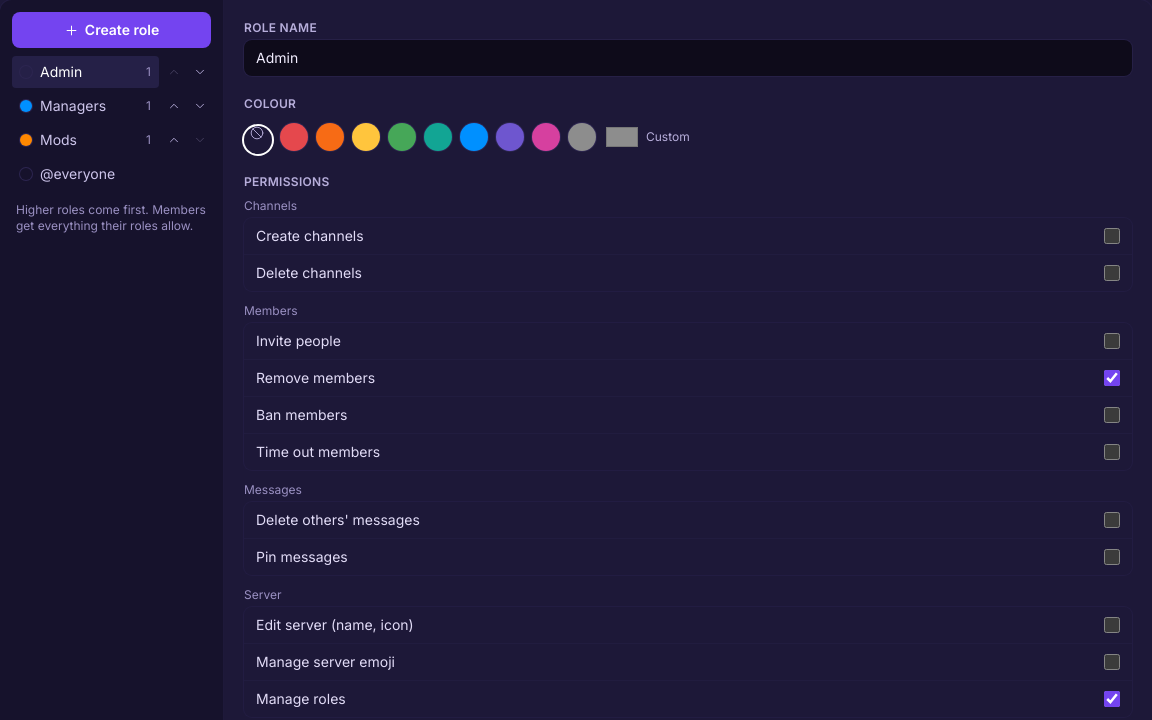
Test: @everyone: permissions only; it can't be renamed or deleted
Click the button "@everyone" at (112, 174), box [12, 158, 211, 190]
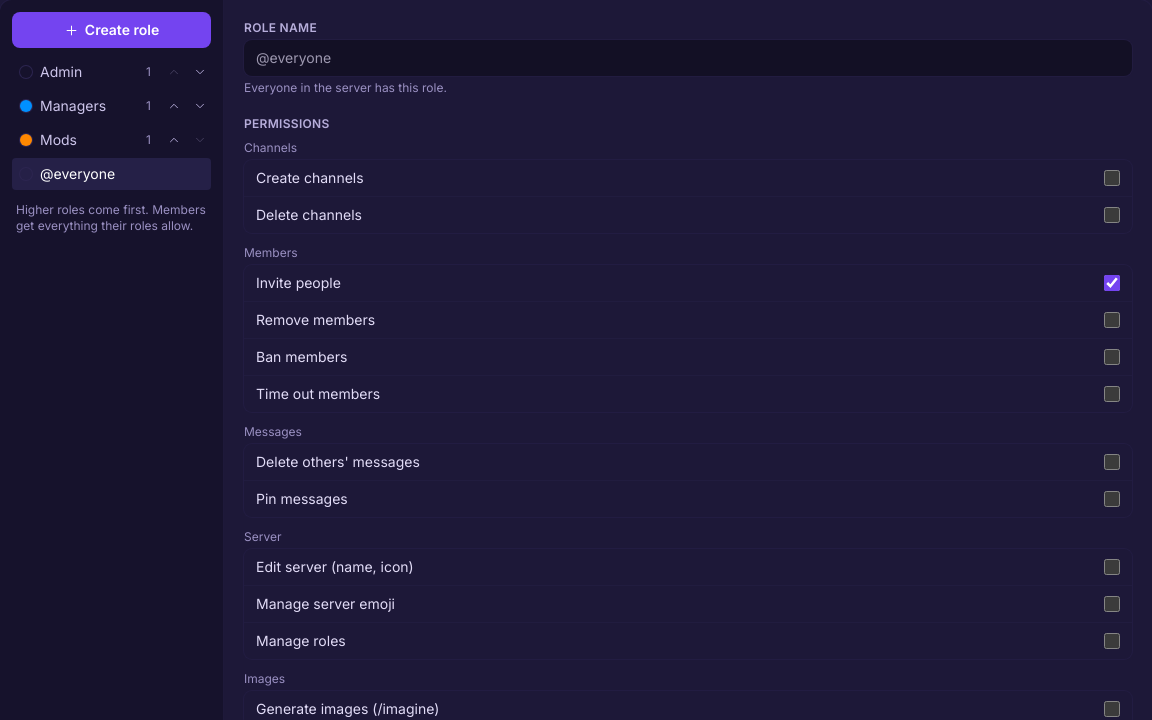
expect the field labelled "Role name" is disabled: met, box [244, 40, 1132, 76]
expect the checkbox labelled "Invite people" is checked: met, box [1104, 275, 1120, 291]
